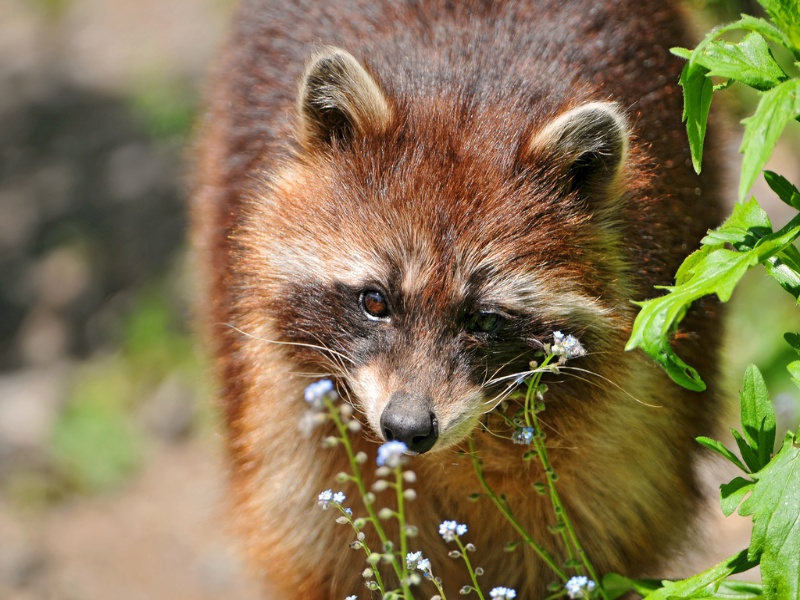raccoon: (185, 12, 755, 585)
